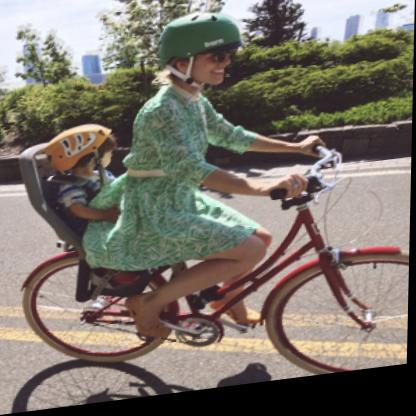With Helmet: (155, 8, 245, 102), (37, 113, 123, 187)
